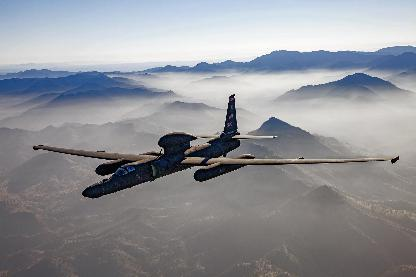Tu160: (32, 94, 398, 199)
